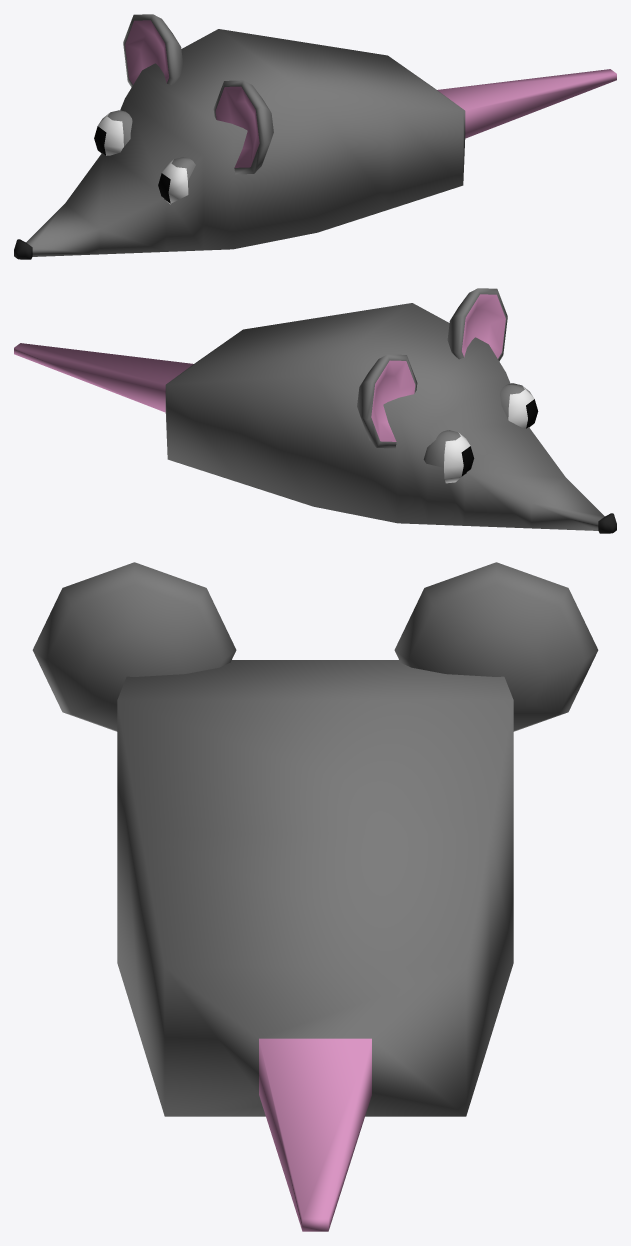
File: raton.fbx
The picture shows the model from 3 angles, top to bottom: view 1: azimuth 30°, elevation 25°; view 2: azimuth 150°, elevation 25°; view 3: azimuth 270°, elevation 25°; orthographic projection. The views are drawn at different scales.
Visible parts, largest first — view 1: Raton; view 2: Raton; view 3: Raton.
Boxes of the visible parts, box(x1,y1,x2,y2) form: Raton: box(14, 14, 616, 259); Raton: box(14, 288, 616, 533); Raton: box(32, 562, 598, 1231).
Bounding box in the file's own units: 302 × 80.14 × 124.
